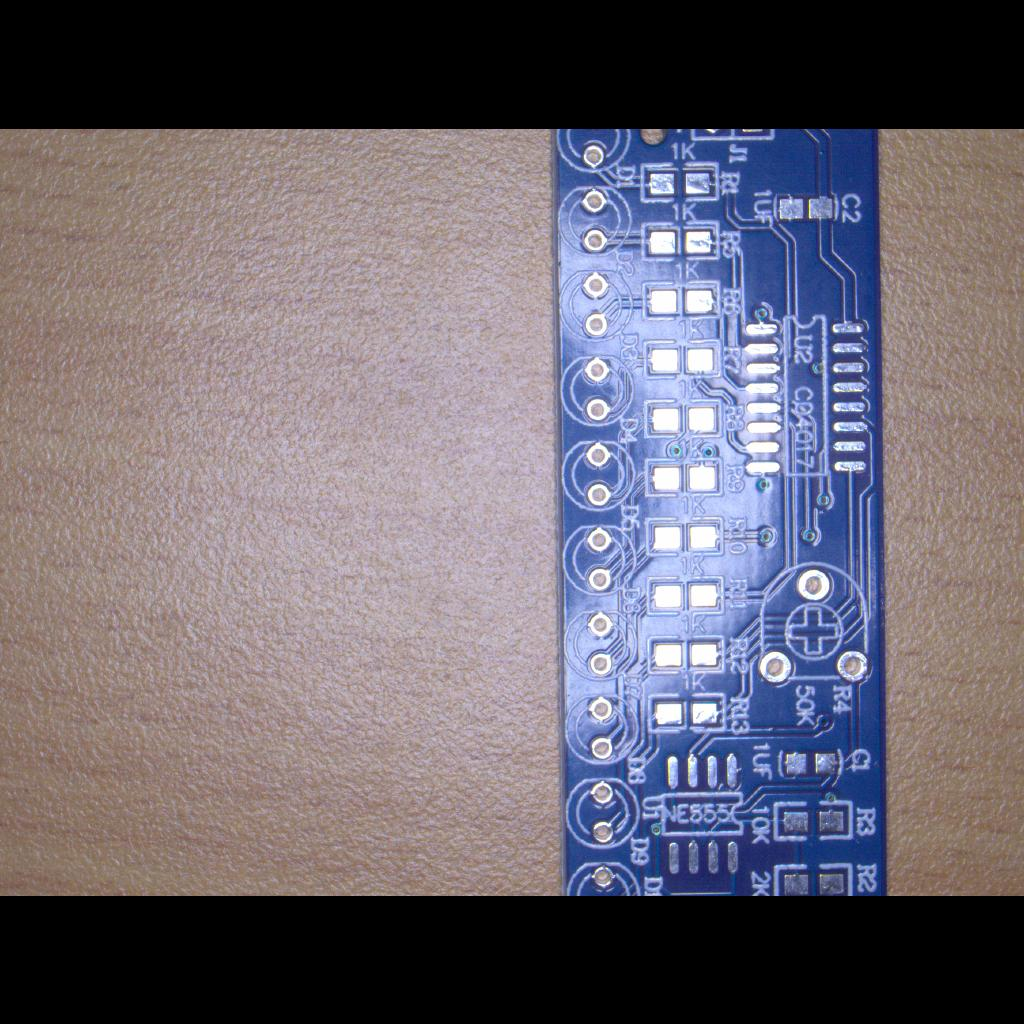NG: (734, 307, 876, 485), (658, 746, 752, 876), (641, 512, 729, 562), (636, 216, 728, 262), (638, 158, 722, 206), (640, 336, 726, 382), (642, 454, 728, 500), (640, 394, 724, 440), (638, 278, 724, 322), (642, 573, 728, 617), (770, 798, 856, 842), (646, 690, 728, 736), (642, 632, 726, 676), (772, 858, 858, 896), (769, 188, 841, 224), (776, 745, 848, 779)
